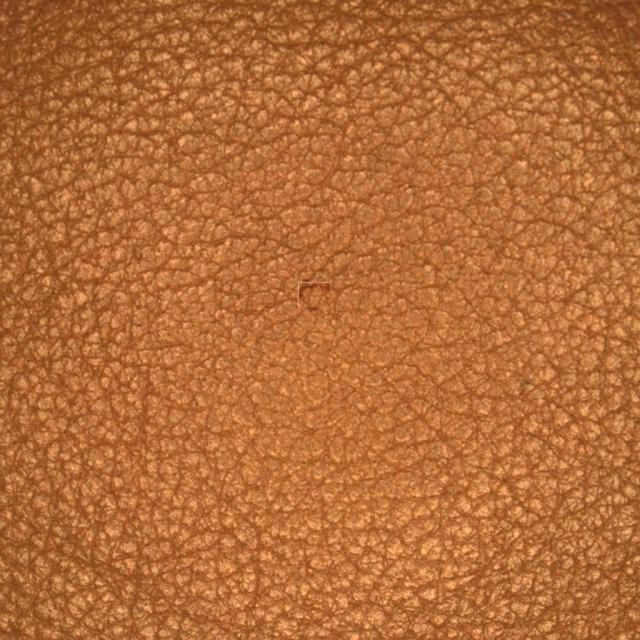Scratch: (223, 198, 421, 383)
